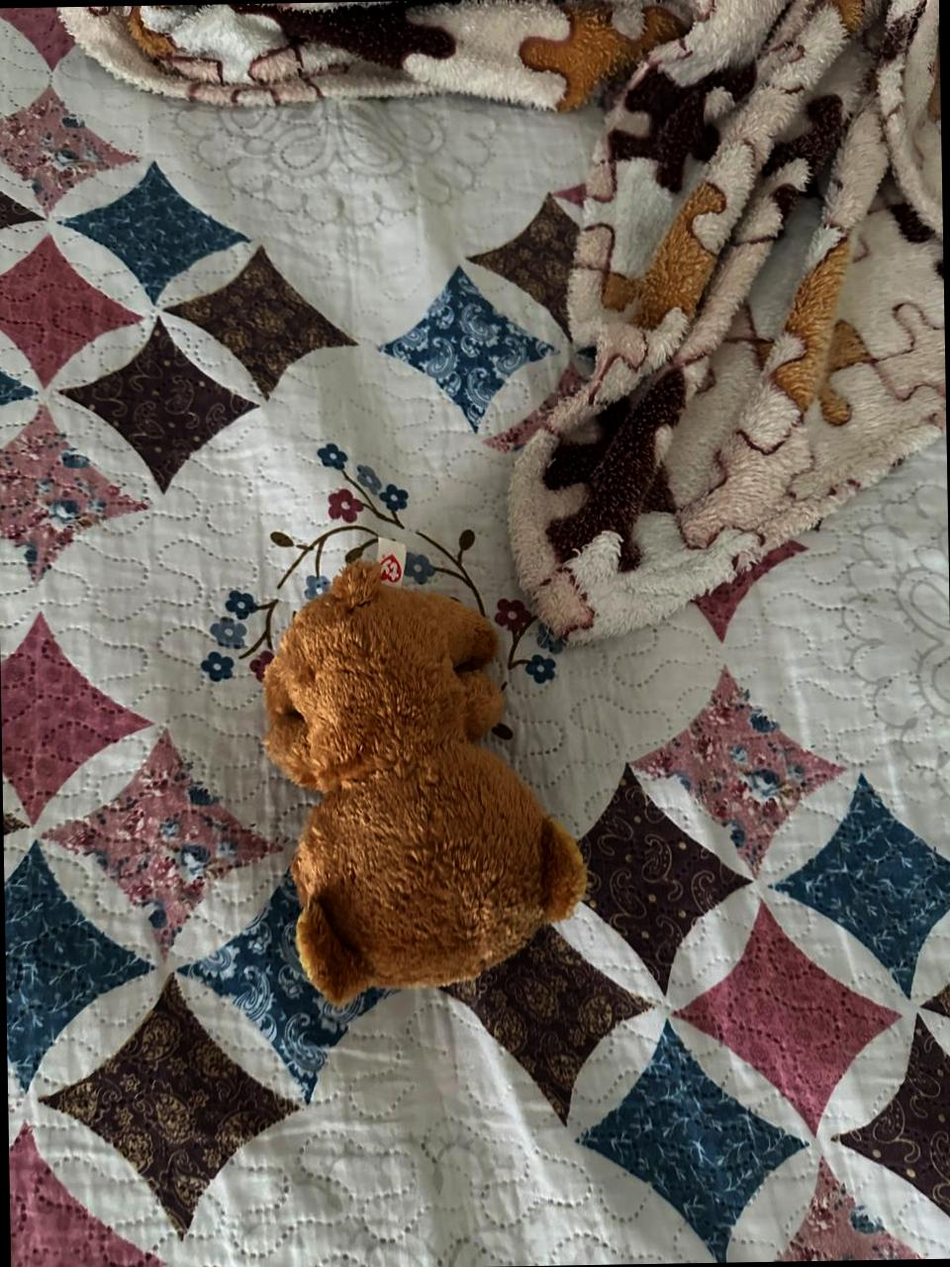peluche_sebastian: (253, 555, 588, 1011)
